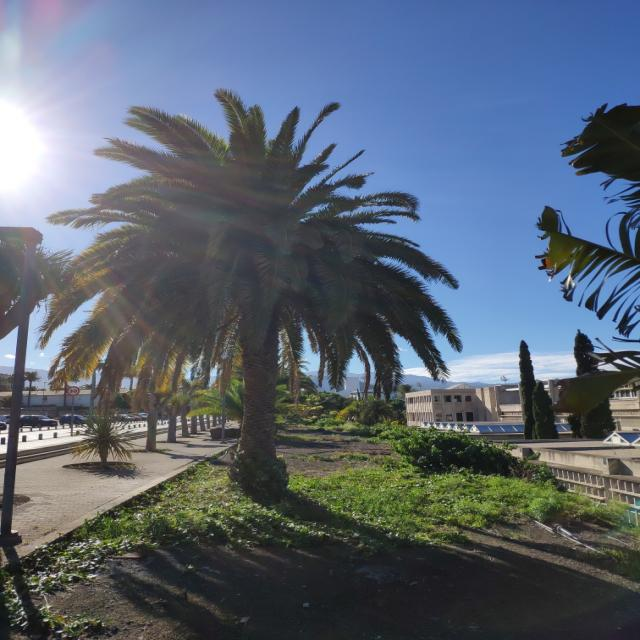Palm-Trees: (86, 89, 444, 491)
